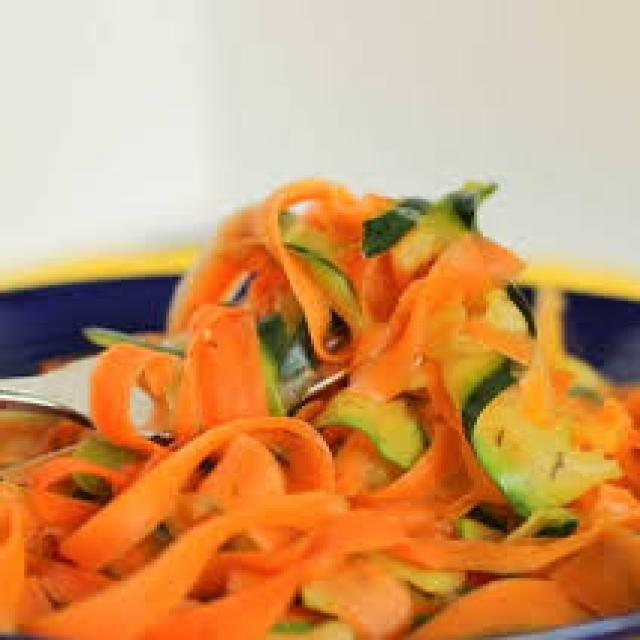Organik: (0, 183, 625, 640)
